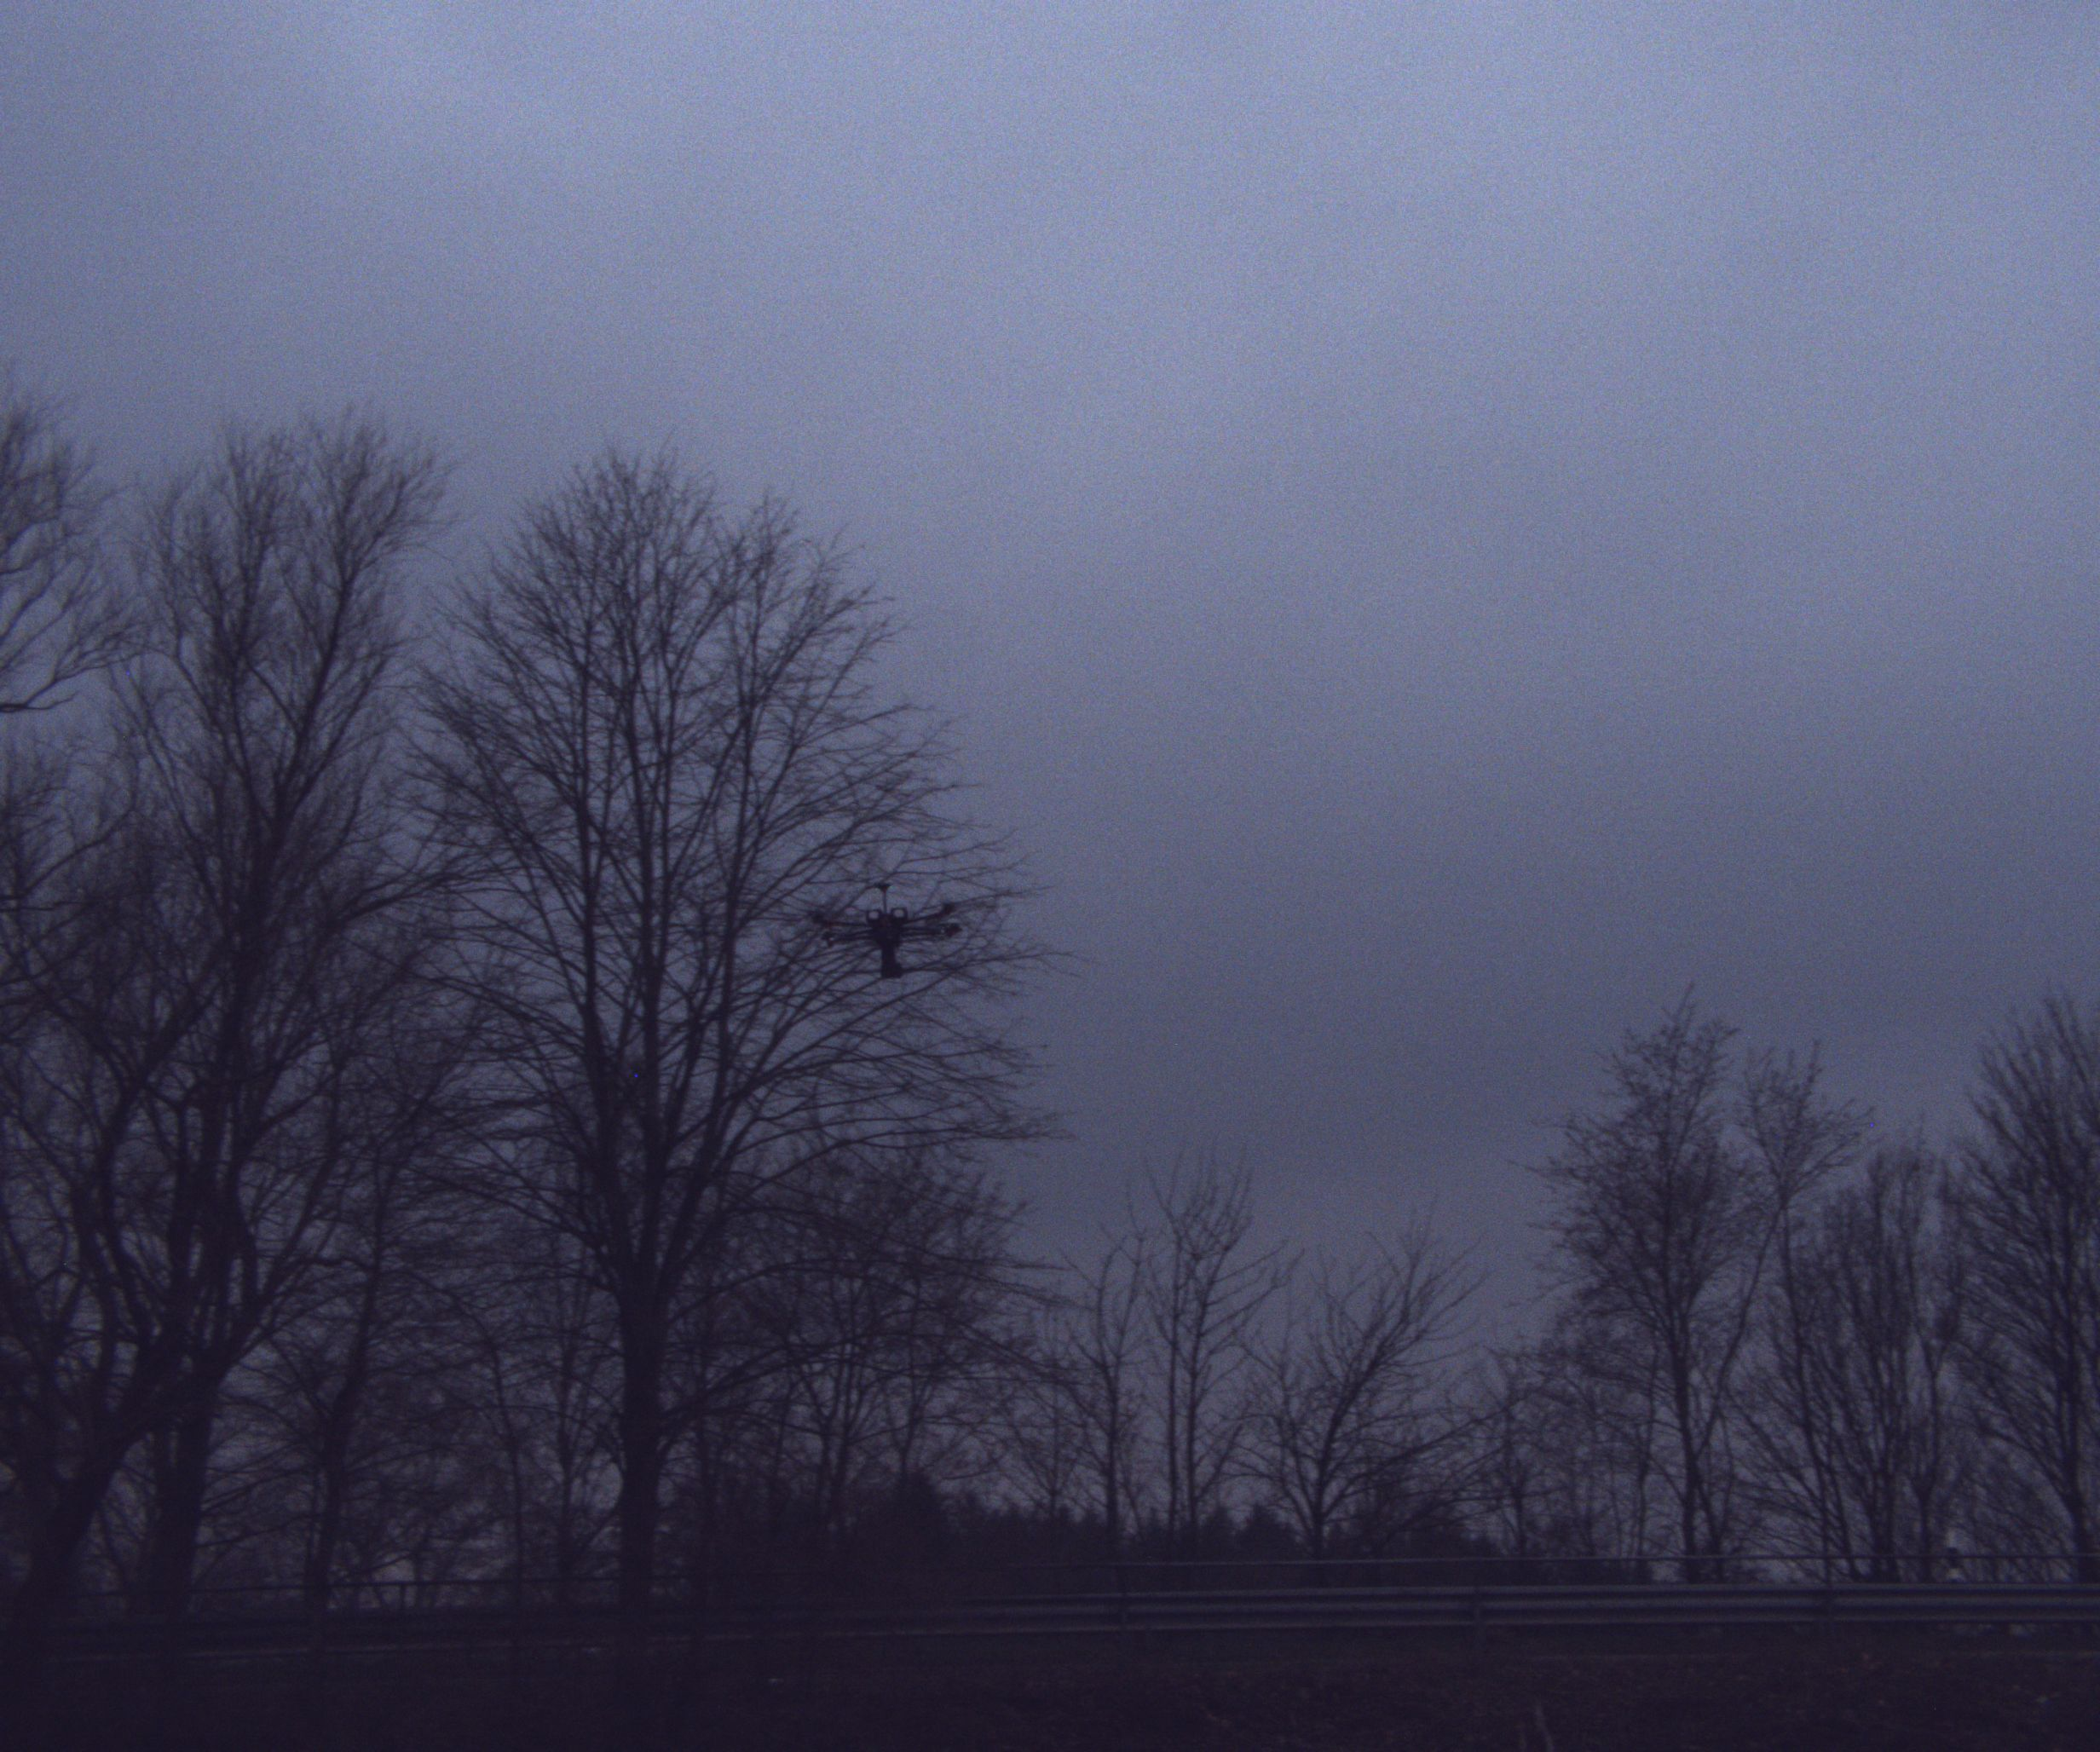Drohne: (766, 844, 1022, 973)
